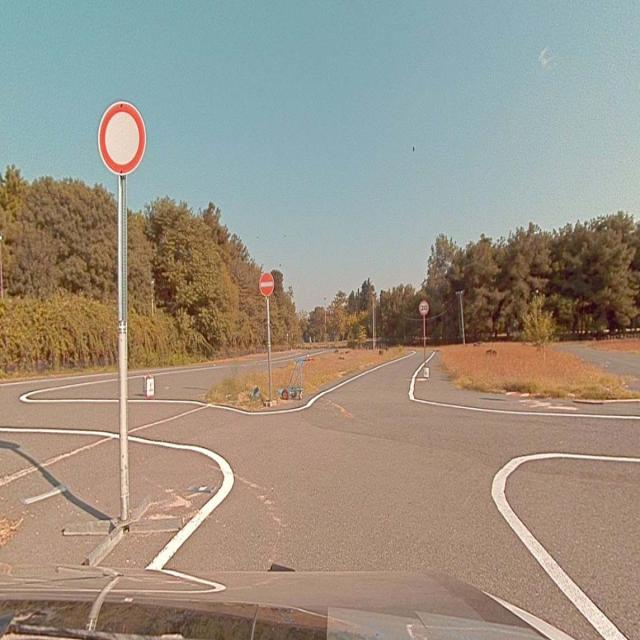20: (420, 301, 428, 315)
girisyok: (260, 272, 274, 296)
